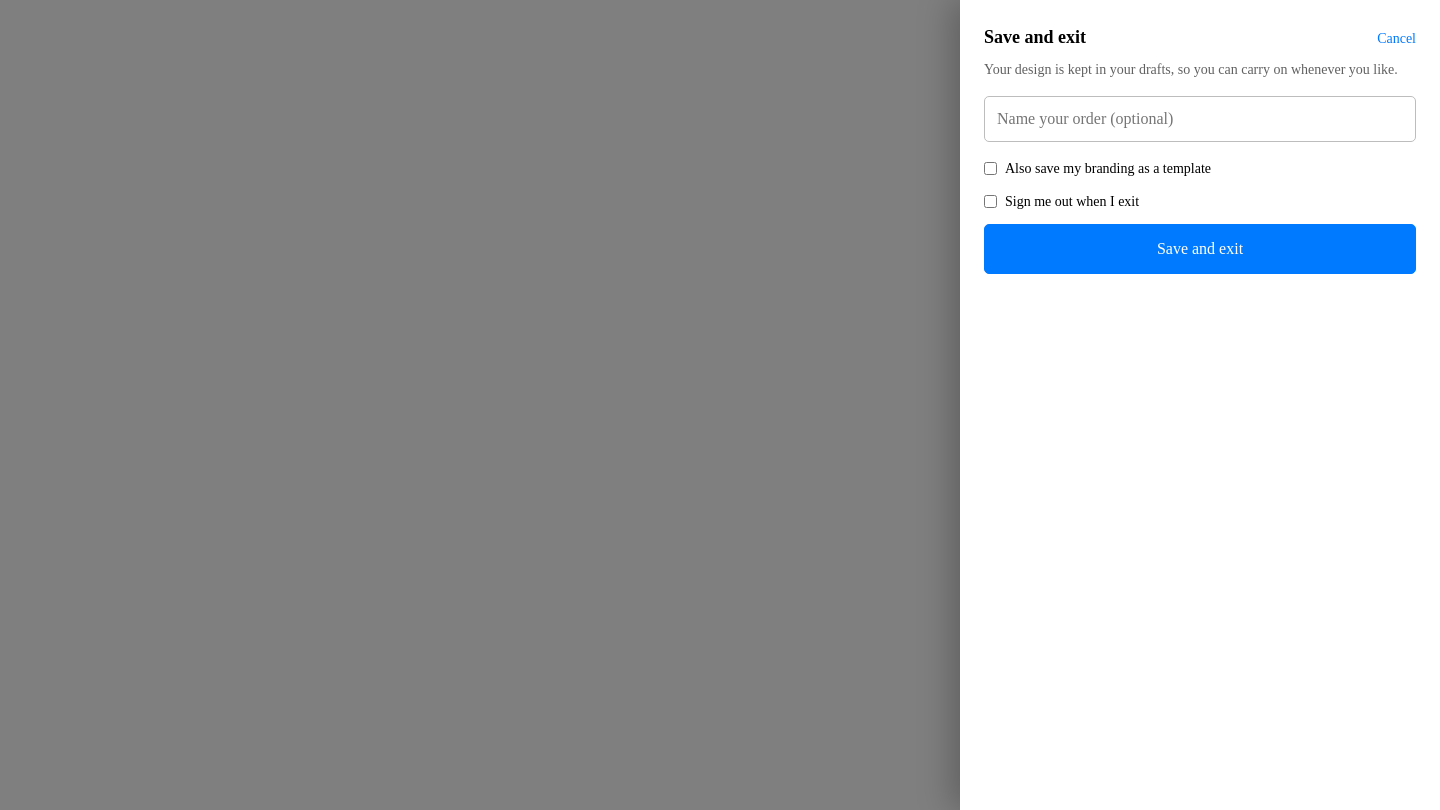
SaveAndExitDialog › saving the branding as a template › says why it needs the order's name, until it has one
Expected: the button "Save and exit" is enabled, [984,224,1416,274]
Expected: the text "saved under the order" is not shown
Click the checkbox labelled "Also save my branding as a template" at x=990, y=168, box [984,162,997,175]
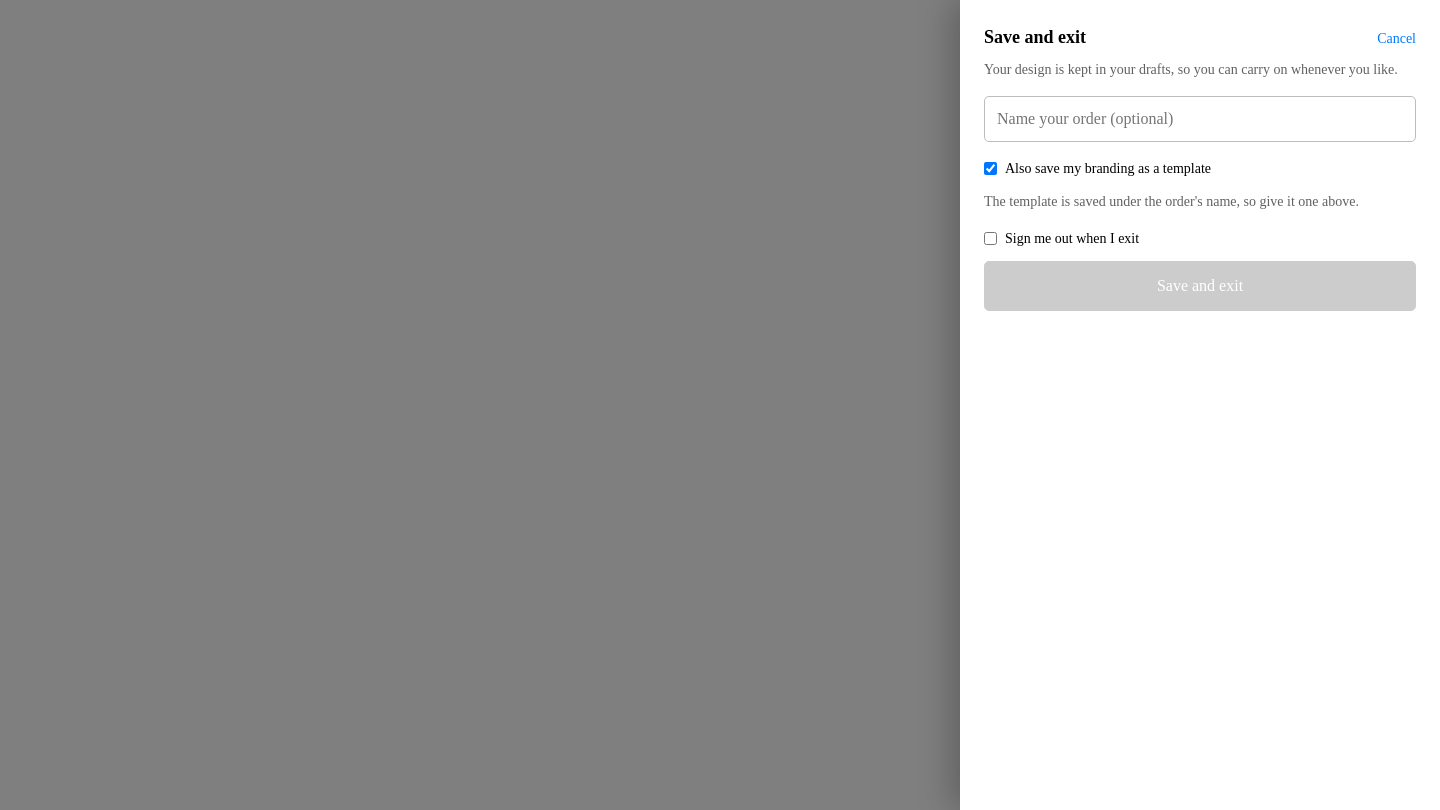
Expected: the text "saved under the order" is shown, [984,194,1359,209]
Type "Company branding" into the field named "order name" at x=1200, y=119, box [984,96,1416,142]
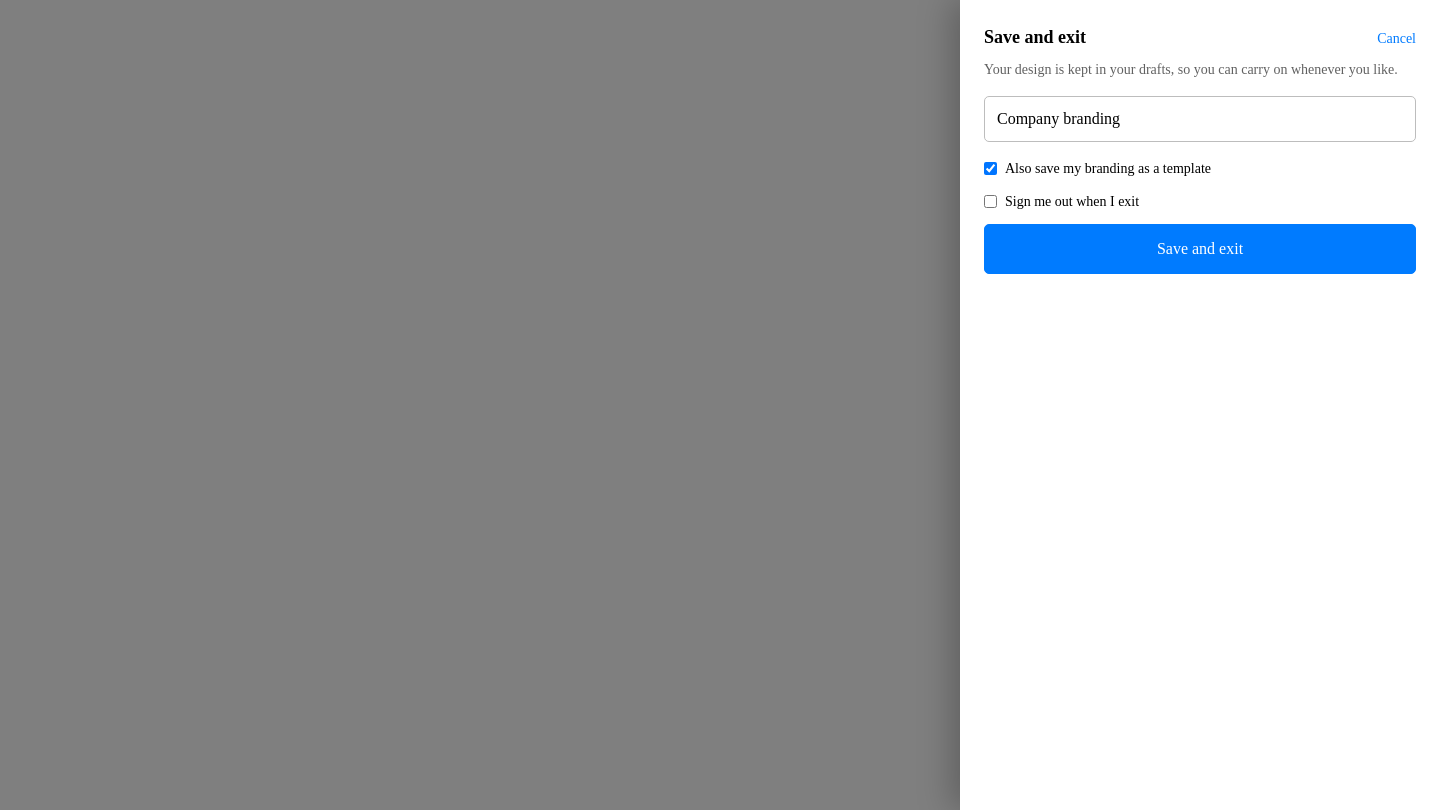
Expected: the text "saved under the order" is gone
